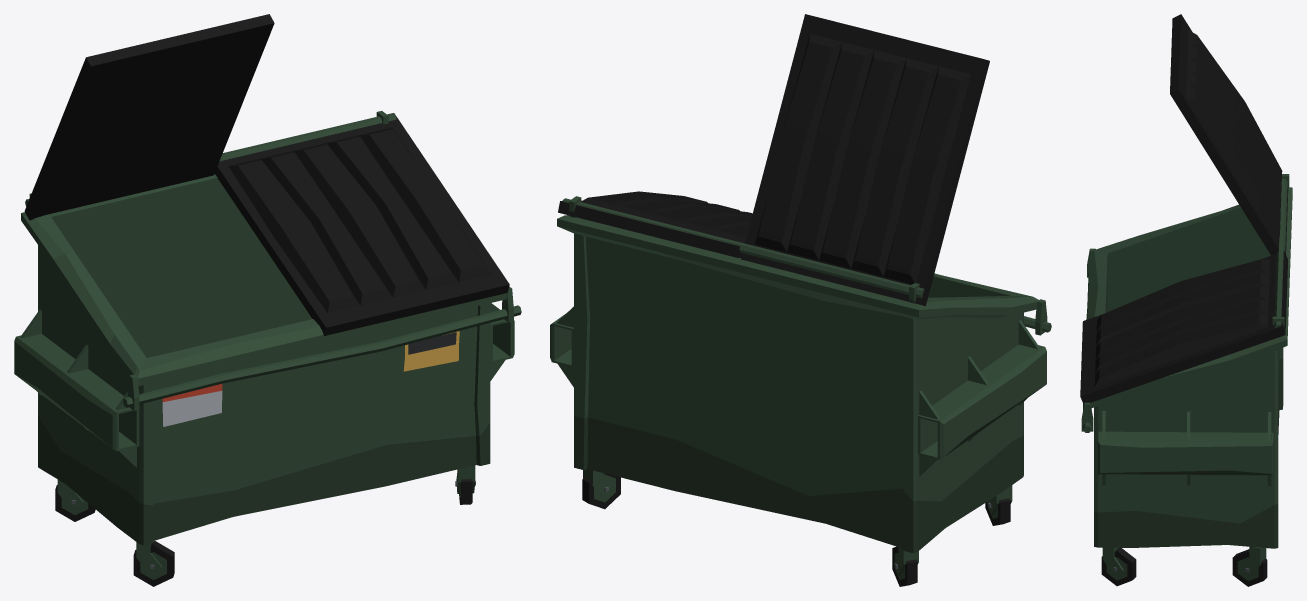
File: SM_Prop_Skip_01.glb
3 renders of one model, left to right at view 1: azimuth 30°, elevation 25°; view 2: azimuth 150°, elevation 25°; view 3: azimuth 270°, elevation 25°, orthographic. The views are drawn at different scales.
Visible parts, largest first — view 1: SM_Prop_Skip_01; view 2: SM_Prop_Skip_01; view 3: SM_Prop_Skip_01.
Boxes of the visible parts, box(x1,y1,x2,y2) form: SM_Prop_Skip_01: box(14, 14, 521, 586); SM_Prop_Skip_01: box(550, 14, 1051, 586); SM_Prop_Skip_01: box(1080, 14, 1292, 586).
Bounding box in the file's own units: 0.0243 × 0.0292 × 0.0131.
Materials: 1 (1 with a texture image).
